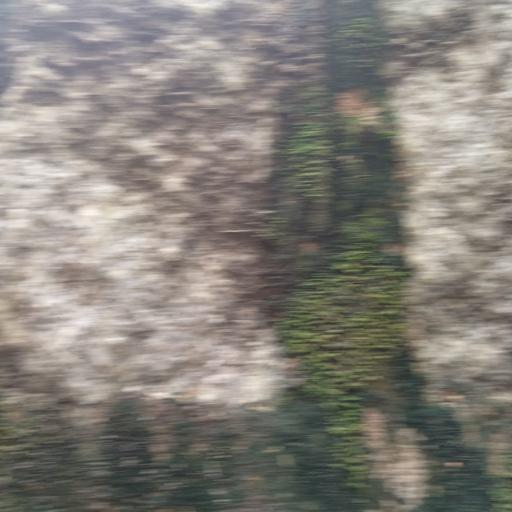algae: (200, 43, 490, 512)
